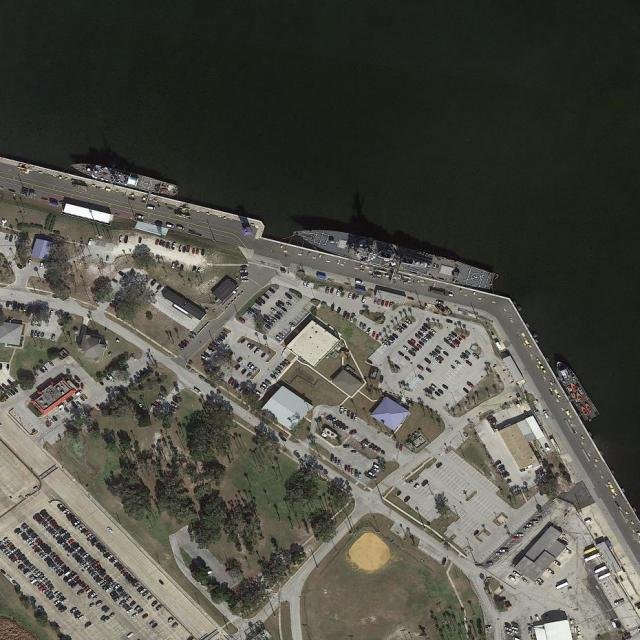Destroyer: (291, 219, 496, 292)
Other Warship: (69, 158, 180, 200), (551, 356, 601, 424)
